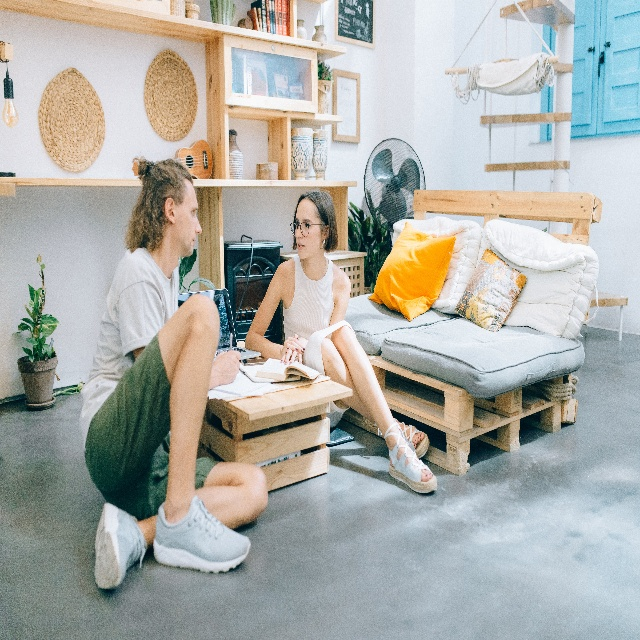Gafas: (290, 221, 325, 238)
Sin_guantes: (214, 346, 242, 385), (280, 339, 306, 367), (279, 334, 305, 356)
